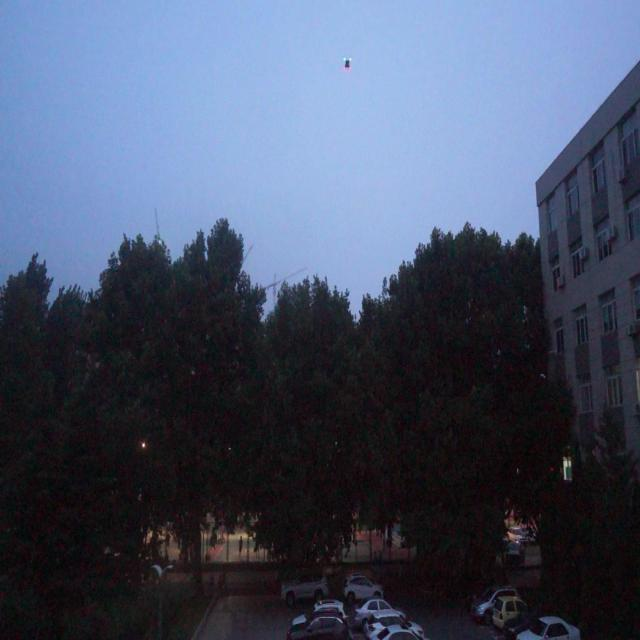drone: (342, 54, 354, 72)
